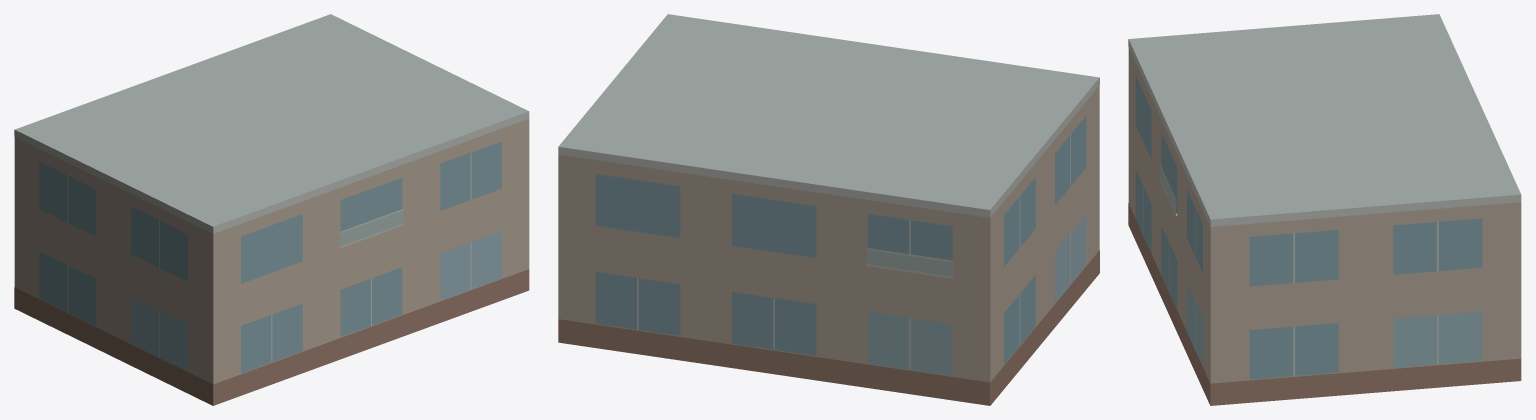
Rendered from survey-upis-32932159.glb.
3 views of the same model, side by side, from view 1: azimuth 30°, elevation 25°; view 2: azimuth 150°, elevation 25°; view 3: azimuth 270°, elevation 25° (orthographic). The views are drawn at different scales.
Parts seen in each view (by area): view 1: survey-upis-32932159.tmp; view 2: survey-upis-32932159.tmp; view 3: survey-upis-32932159.tmp.
Boxes of the visible parts, left/top/right/bottom form: survey-upis-32932159.tmp: left=14, top=14, right=529, bottom=405; survey-upis-32932159.tmp: left=558, top=14, right=1099, bottom=405; survey-upis-32932159.tmp: left=1128, top=14, right=1521, bottom=405.
Bounding box in the file's own units: 14.45 × 6.1 × 11.67.
